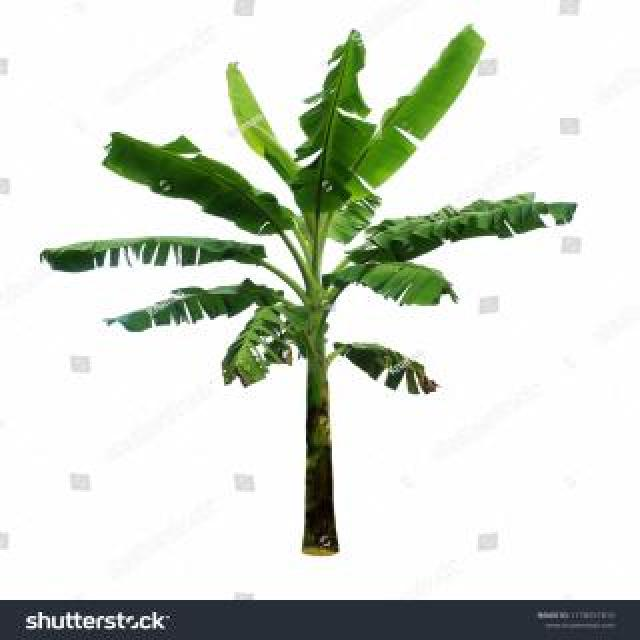Pisang: (36, 29, 579, 557)
